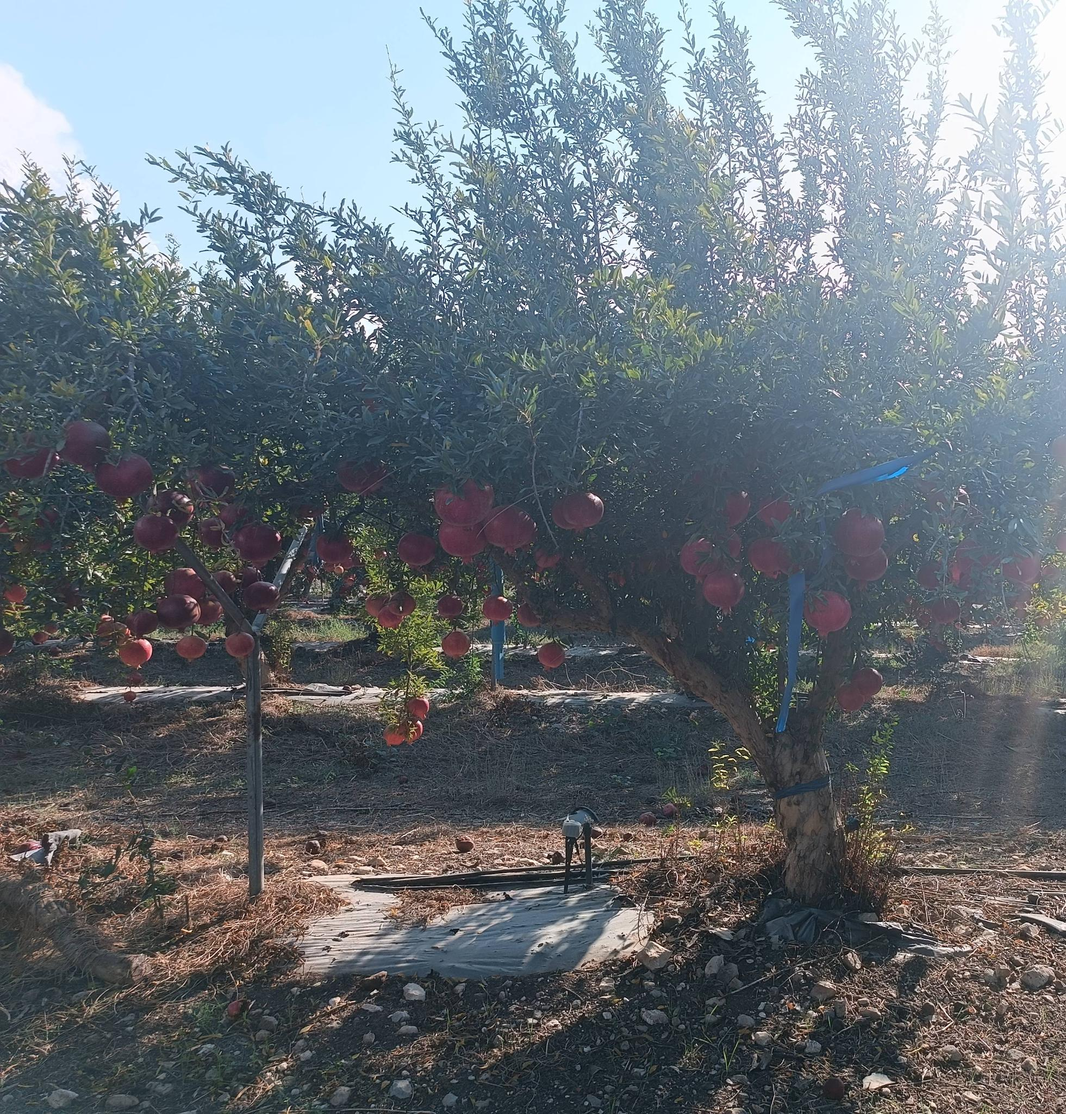pomegranates: (95, 450, 155, 505), (55, 419, 112, 475), (833, 506, 885, 567), (434, 476, 494, 527), (484, 504, 534, 556), (4, 431, 57, 479), (337, 450, 387, 500), (438, 520, 491, 565), (803, 590, 852, 638), (235, 523, 283, 568), (145, 489, 194, 533), (184, 463, 236, 503), (843, 547, 889, 592), (703, 570, 745, 617), (134, 513, 179, 555), (680, 538, 721, 584), (157, 593, 202, 634), (562, 491, 604, 534), (709, 484, 751, 527), (928, 488, 971, 528), (398, 531, 437, 570), (747, 536, 782, 579), (758, 492, 797, 529), (999, 546, 1039, 582), (165, 568, 206, 600), (243, 580, 280, 614), (292, 488, 330, 520), (317, 530, 352, 564), (956, 538, 991, 572), (220, 502, 255, 535), (777, 540, 809, 576), (119, 637, 153, 670), (850, 667, 883, 701), (197, 516, 228, 552), (125, 608, 158, 640), (552, 499, 583, 531), (711, 528, 741, 561), (482, 595, 513, 626), (931, 594, 961, 626), (193, 596, 222, 627), (96, 622, 131, 647), (441, 631, 471, 660), (837, 683, 865, 714), (226, 631, 255, 660), (176, 636, 207, 663), (365, 590, 394, 617), (538, 642, 565, 671), (533, 541, 562, 568), (918, 563, 947, 590), (516, 599, 543, 627), (438, 594, 463, 620), (36, 503, 61, 529), (389, 592, 416, 616), (400, 718, 423, 746), (378, 605, 404, 629), (211, 570, 237, 594), (384, 722, 407, 747), (407, 695, 429, 720), (93, 613, 115, 635), (5, 584, 28, 604), (1042, 563, 1062, 585), (0, 626, 15, 655), (235, 567, 257, 586), (14, 534, 34, 554), (1033, 609, 1052, 629), (947, 561, 965, 581), (32, 533, 51, 551), (1056, 529, 1066, 556), (916, 612, 931, 629), (10, 507, 25, 522), (33, 631, 47, 645), (45, 621, 59, 635), (0, 520, 14, 534), (129, 672, 142, 685), (1015, 609, 1028, 621), (124, 691, 136, 703)
